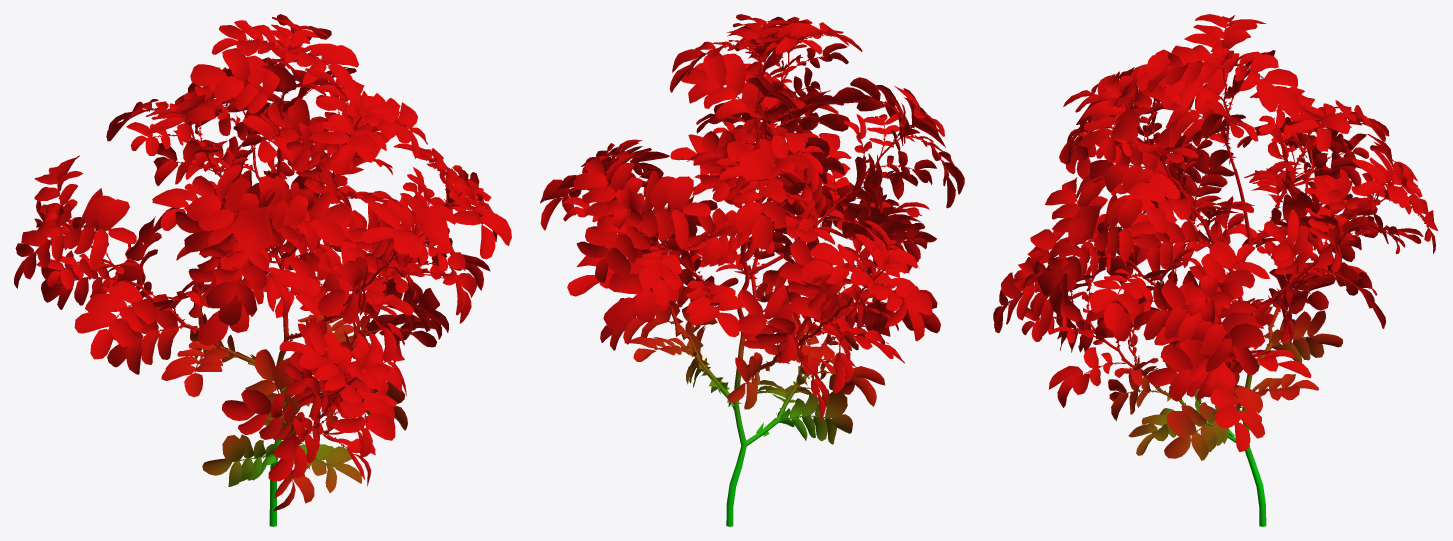
Rendered from planta.glb.
3 renders of one model, left to right at view 1: azimuth 30°, elevation 25°; view 2: azimuth 150°, elevation 25°; view 3: azimuth 270°, elevation 25°, orthographic. The views are drawn at different scales.
Visible parts, largest first — view 1: _b9hb_Var1_LOD0; view 2: _b9hb_Var1_LOD0; view 3: _b9hb_Var1_LOD0.
Boxes of the visible parts, bbox=[...] form: _b9hb_Var1_LOD0: bbox=[14, 14, 511, 526]; _b9hb_Var1_LOD0: bbox=[540, 14, 964, 526]; _b9hb_Var1_LOD0: bbox=[993, 14, 1438, 526].
Bounding box in the file's own units: 1.12 × 1.28 × 1.07.
